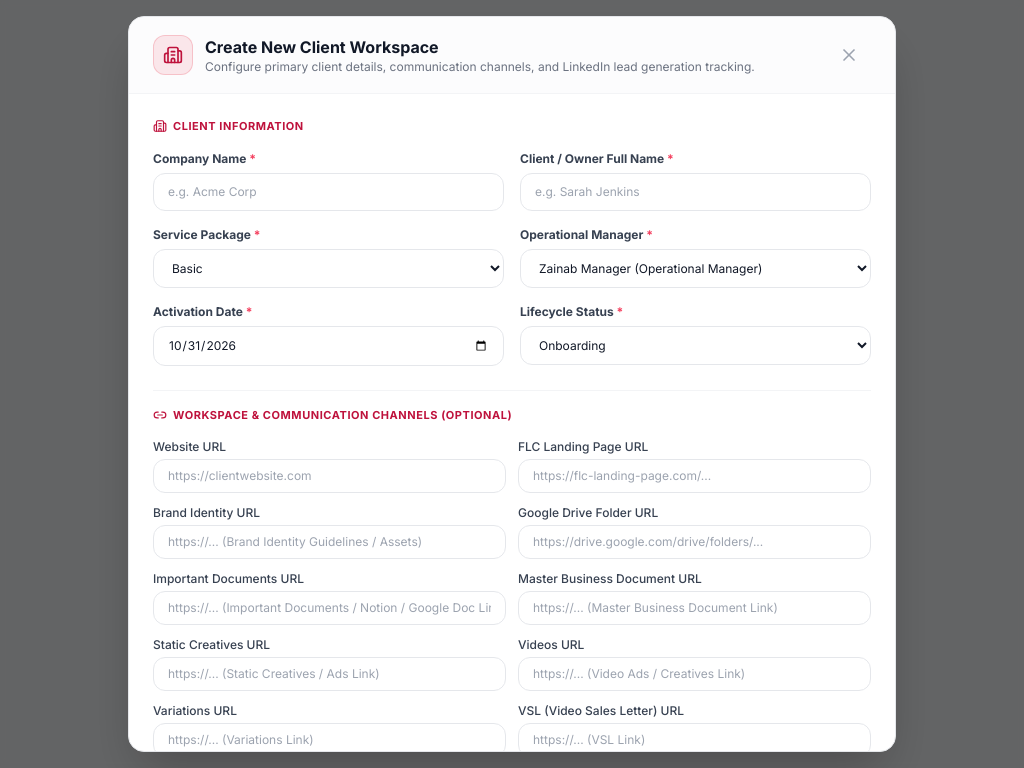
it: Hotfix Verification: Client Creation RLS, Persistence & Atomicity › 3. Preserves draft in state and localStorage on creation error, and displays RLS error clearly
// Fill form
Type "Bizease" into the field labelled "Company Name *". click: point(328, 192)
box: 153,172 -> 504,210
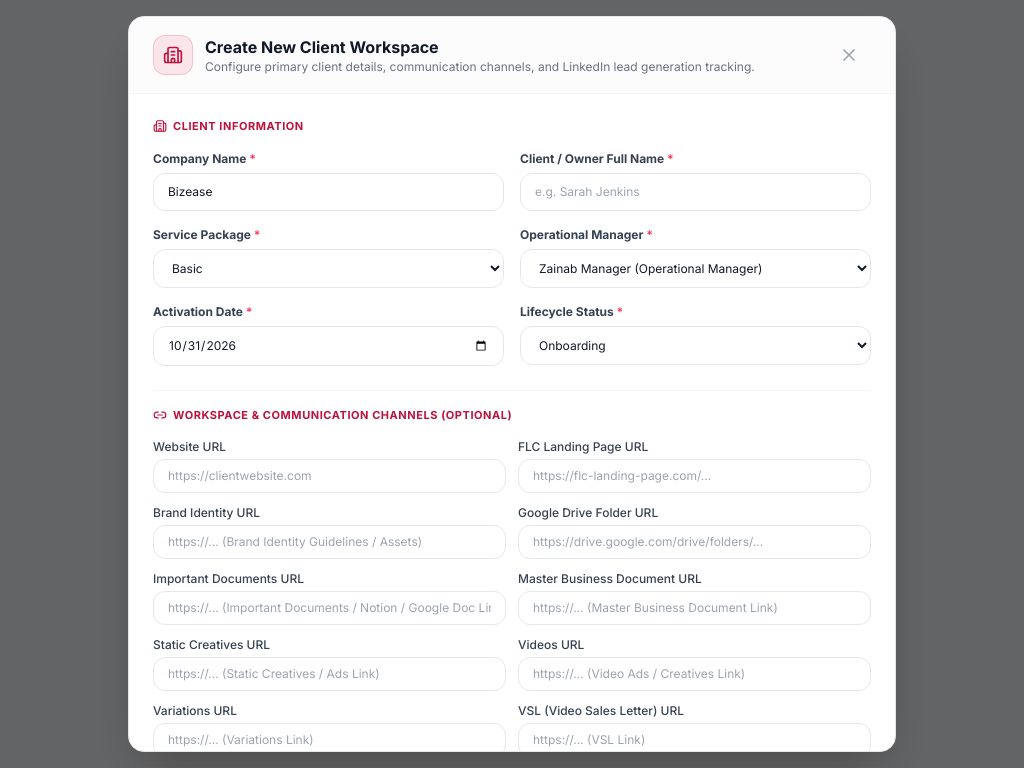
Type "Bizease Lead" into the field labelled "Client / Owner Full Name *". click: point(696, 192)
box: 520,172 -> 871,210
(page scrolled)
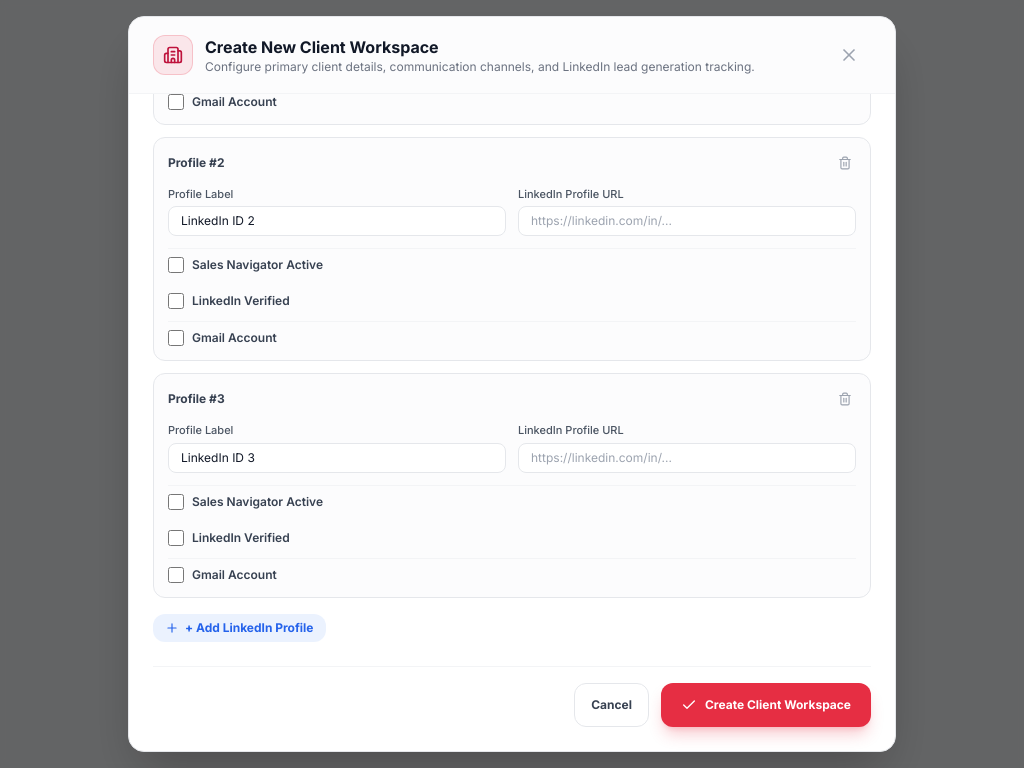
// Submit form
Click the button "Create Client Workspace". click: point(766, 704)
box: 661,682 -> 871,726
(page scrolled)
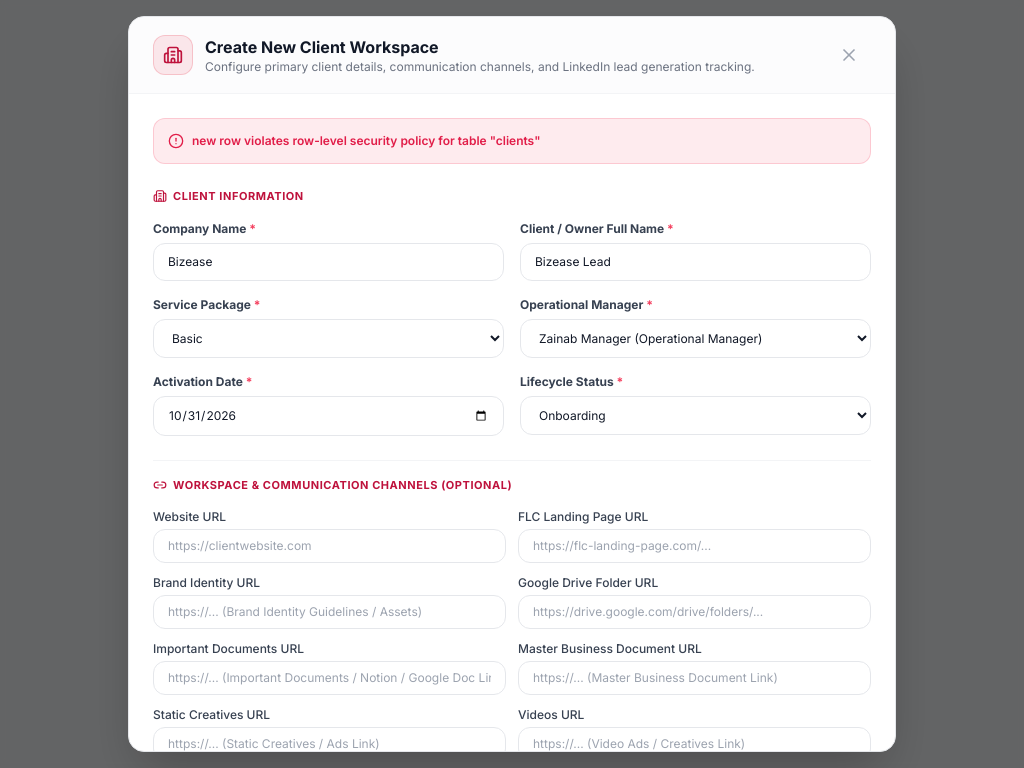
Result: the text "new row violates row-level security policy for table \"clients\"" is shown at 192,133 -> 540,149
